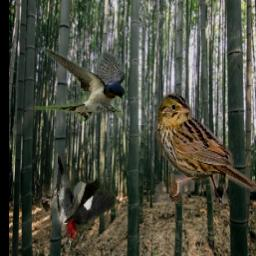Sparrow: (155, 93, 256, 205)
Swallow: (35, 46, 126, 122)
Woodpecker: (43, 153, 116, 248)
